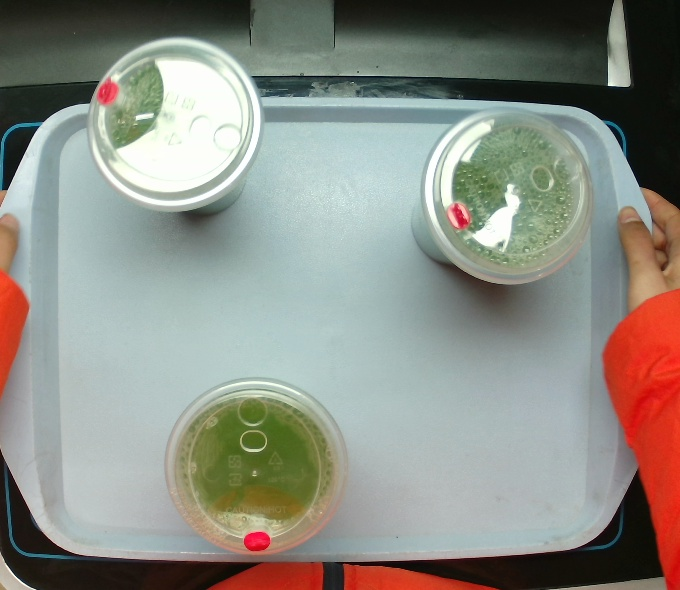wcq-HuangGuaZhi: (163, 374, 350, 558), (409, 105, 596, 287), (84, 33, 267, 217)
